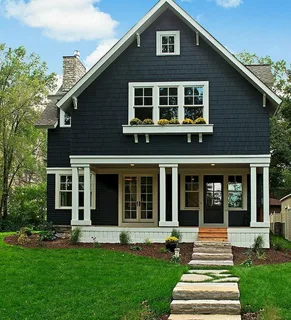private_hause: (45, 8, 273, 241)
